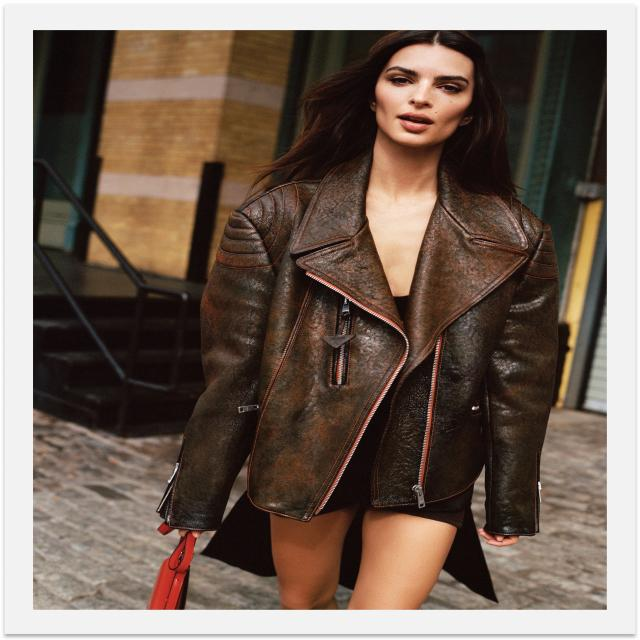Jacket: (140, 165, 586, 552)
